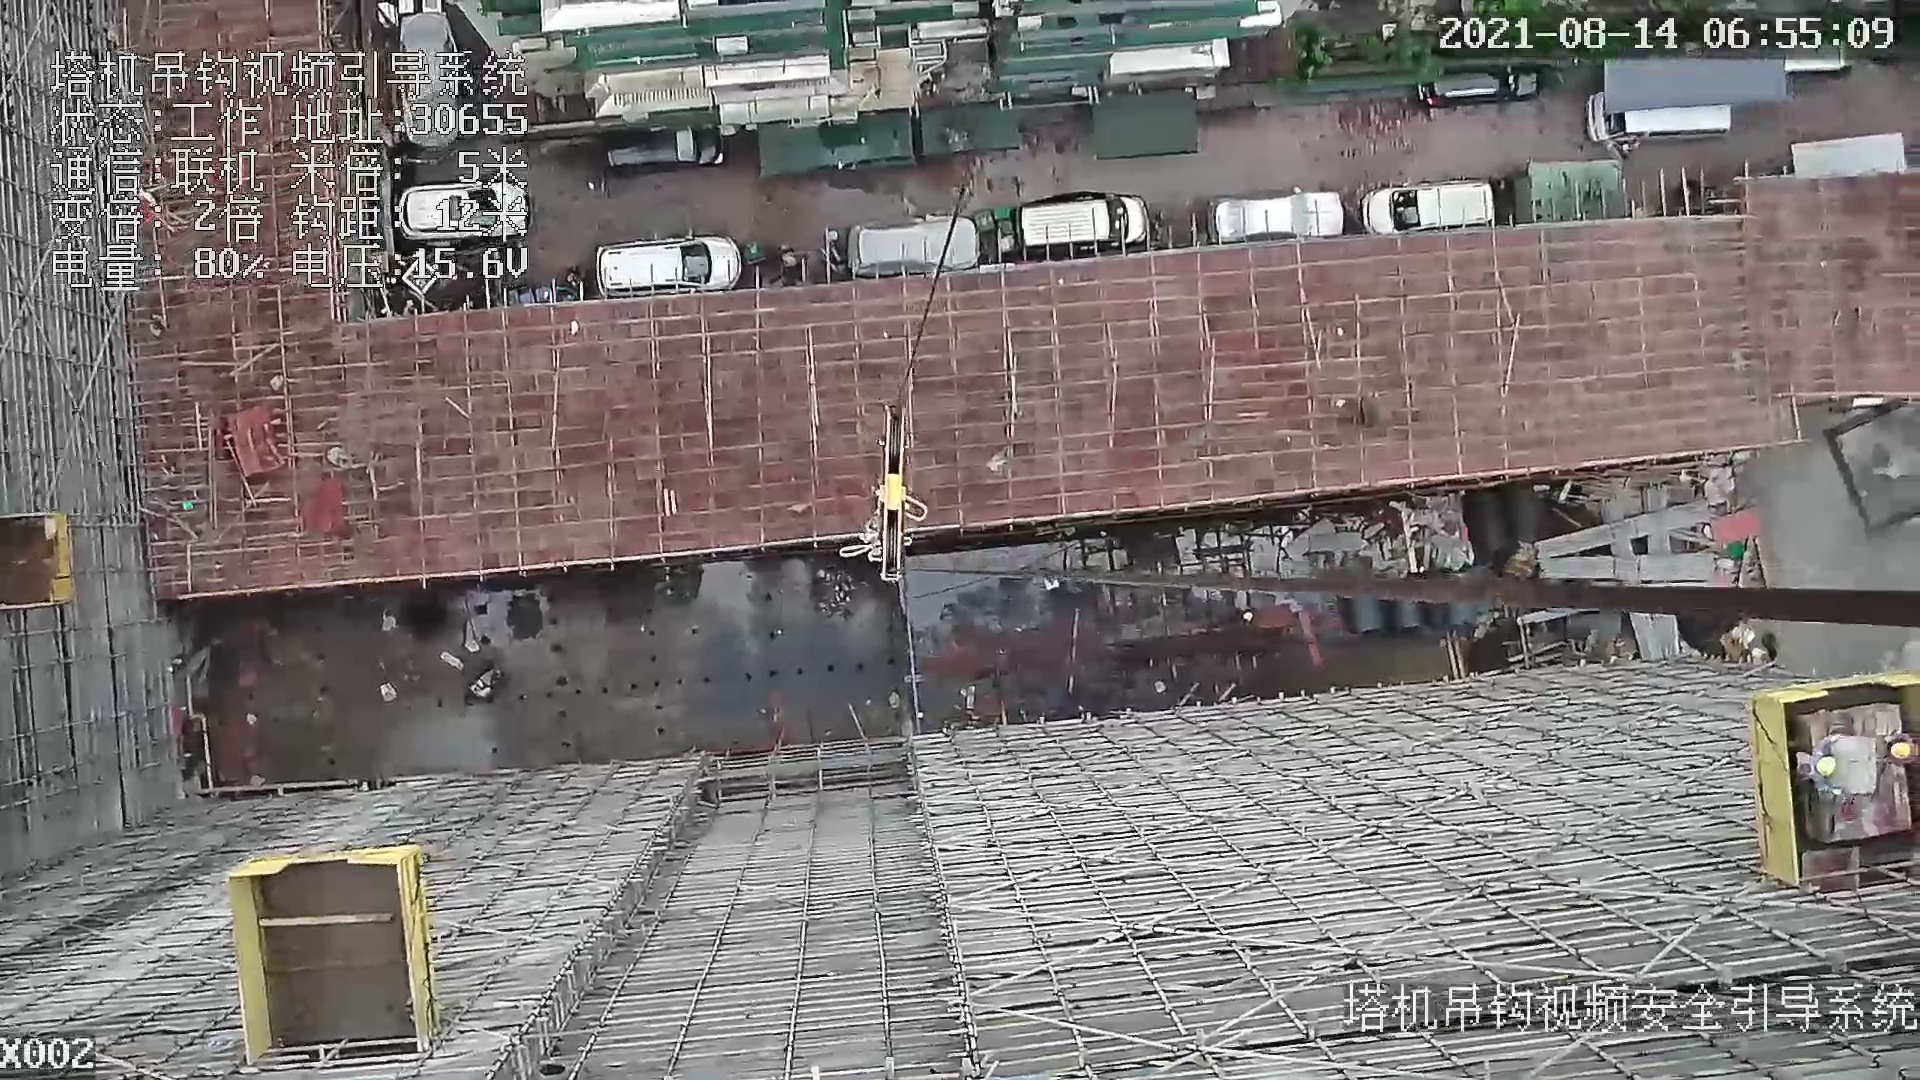board: (1808, 706, 1915, 842)
helmet: (1815, 757, 1836, 776), (1890, 743, 1910, 759)
hook: (870, 399, 928, 583)
person: (1788, 734, 1841, 795), (1886, 732, 1911, 764)
rebar: (1536, 499, 1707, 558), (1540, 558, 1709, 581), (1623, 613, 1661, 661), (1653, 615, 1682, 659)
